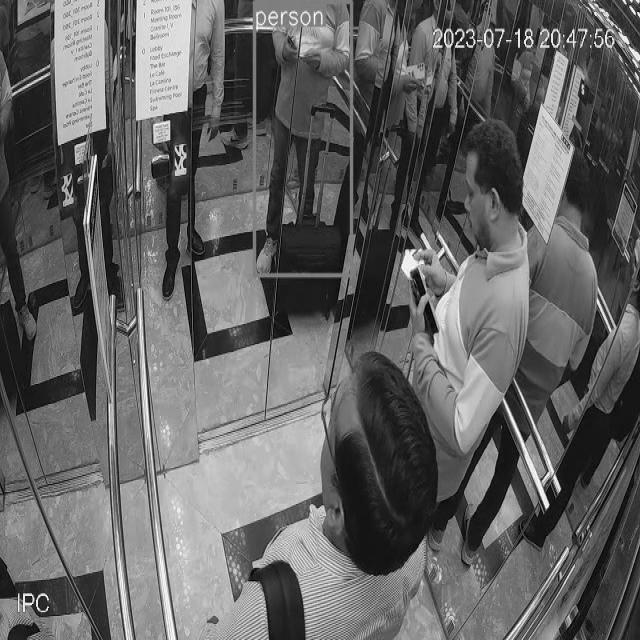person: (210, 346, 458, 640), (386, 110, 532, 566), (250, 10, 353, 280)
